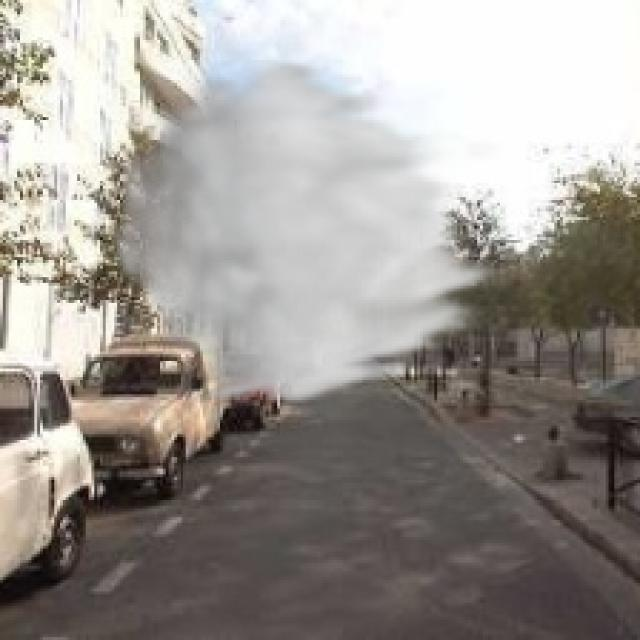smoke: (103, 54, 511, 409)
